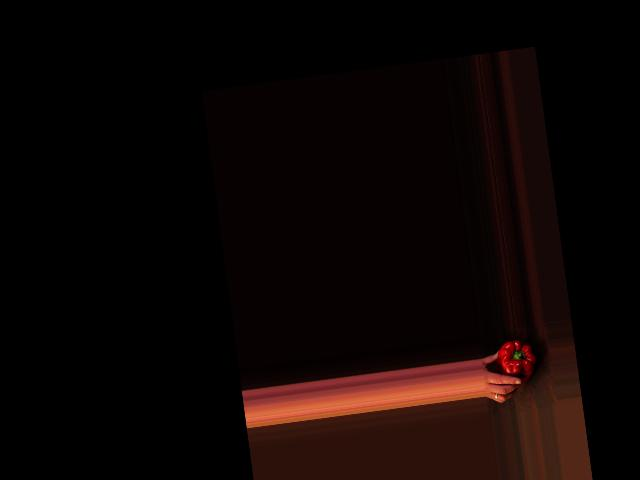bell_pepper: (493, 336, 540, 385)
